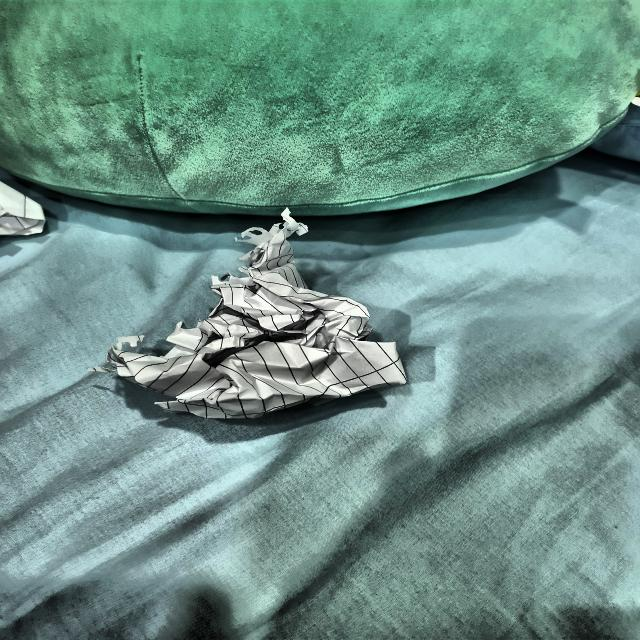Paper: (112, 219, 414, 423)
